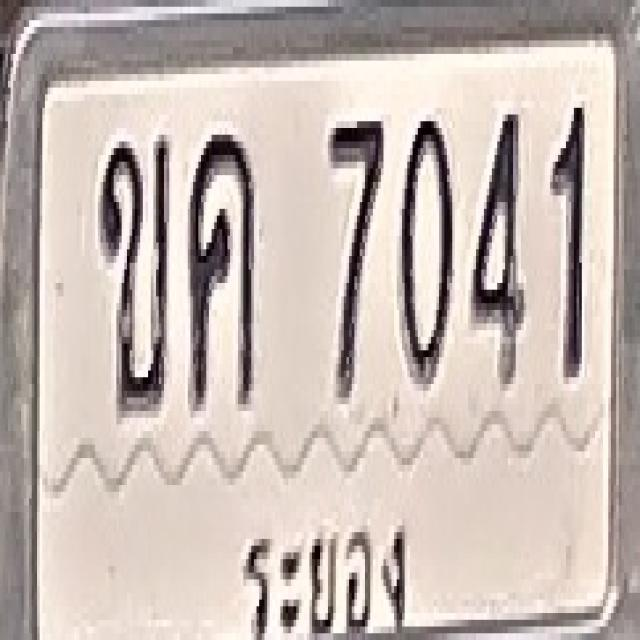0: (400, 115, 452, 384)
1: (550, 101, 585, 377)
4: (471, 108, 524, 384)
7: (328, 115, 383, 398)
A02: (98, 132, 169, 414)
A04: (188, 125, 254, 408)
RYG: (224, 505, 421, 640)
